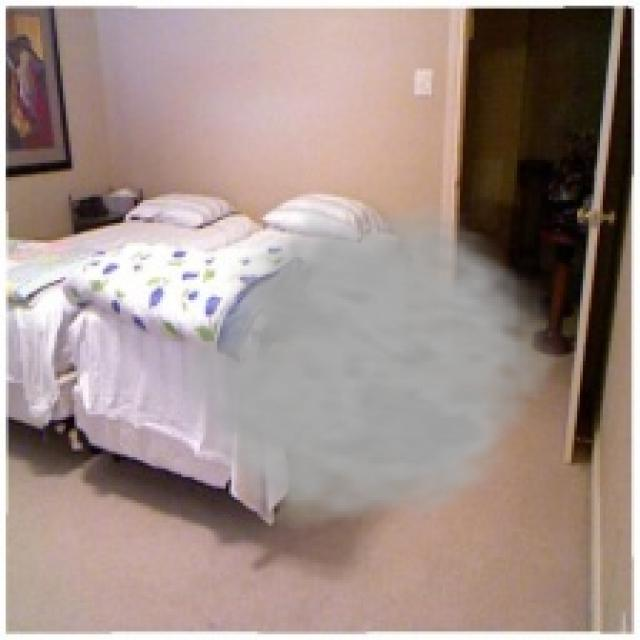smoke: (169, 200, 574, 543)
